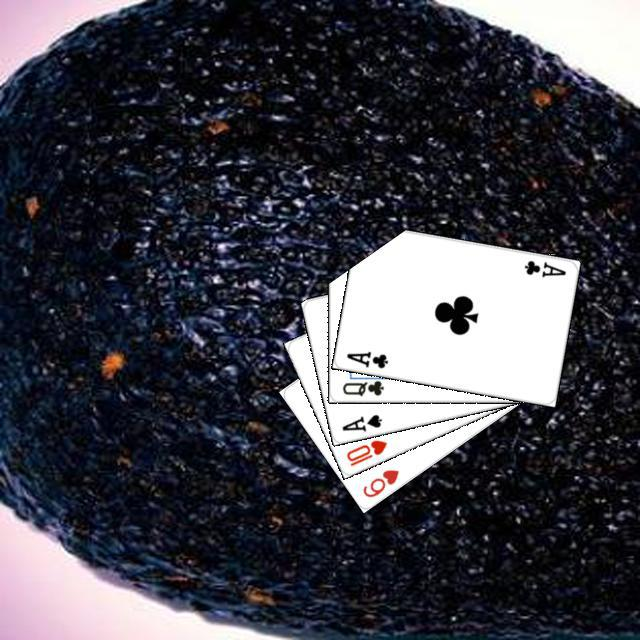10h: (341, 435, 389, 468)
6h: (358, 464, 401, 499)
Ac: (341, 346, 390, 370), (519, 256, 568, 279)
As: (337, 409, 384, 433)
Qc: (337, 371, 390, 397)
